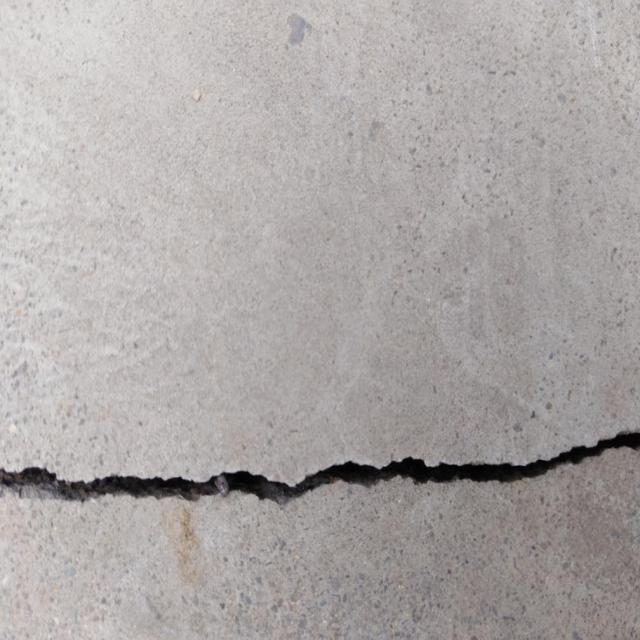horizontal crack: (0, 426, 639, 507)
